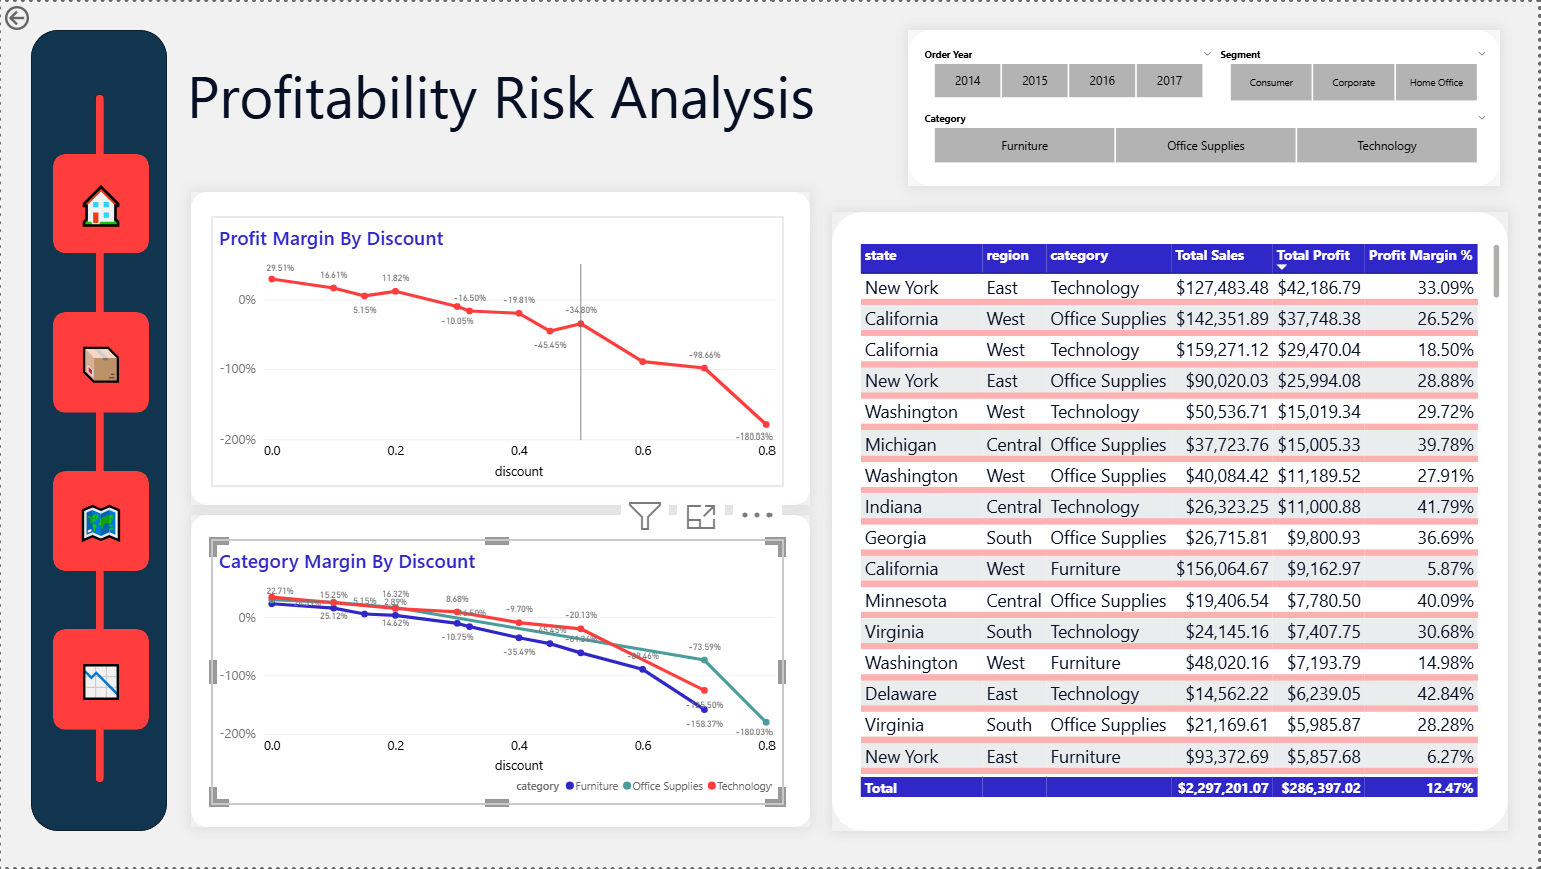

The page's visual inventory and layout, read from the dashboard file:
{"tool":"powerbi","page":{"name":"Profitability risk","canvas":[1920,1080],"ordinal":3},"visuals":[{"type":"shape","box":[1132.5,35,740,195],"z":0},{"type":"textbox","box":[227.5,62.5,857.5,145],"z":1000},{"type":"slicer","fields":{"Values":["superstore_full.Order Year"]},"box":[1139.5,53.3,384.4,73.3],"z":2000},{"type":"slicer","fields":{"Values":["superstore_full.segment"]},"box":[1509.6,52.5,357.5,77.5],"z":3000},{"type":"actionButton","box":[0,0,100,40],"z":4000},{"type":"slicer","fields":{"Values":["superstore_full.category"]},"box":[1139.6,132.5,727.5,75],"z":5000},{"type":"shape","box":[237.5,237.5,772.5,390],"z":6000},{"type":"lineChart","title":"Profit Margin By Discount","fields":{"Category":["superstore_full.discount"],"Y":["superstore_full.Profit Margin %"]},"box":[262.5,267.5,715,337.5],"z":7000},{"type":"shape","box":[237.5,640,772.5,390],"z":8000},{"type":"lineChart","title":"Category Margin By Discount","fields":{"Category":["superstore_full.discount"],"Series":["superstore_full.category"],"Y":["superstore_full.Profit Margin %"]},"box":[262.5,670,715,332.5],"z":9000},{"type":"shape","box":[1037.5,262.5,845,772.5],"z":10000},{"type":"tableEx","title":"Category Margin By Discount","fields":{"Values":["superstore_full.state","superstore_full.region","superstore_full.category","superstore_full.Total Sales","superstore_full.Total Profit","superstore_full.Profit Margin %"]},"box":[1062.5,292.5,820,710],"z":11000},{"type":"shape","box":[38.5,35,170,1000],"z":12000},{"type":"shape","box":[118,114,12,860],"z":13000},{"type":"actionButton","box":[64.5,190,120,124],"z":14000},{"type":"actionButton","box":[64.5,386.3,120,126],"z":15000},{"type":"actionButton","box":[64.5,584.7,120,125],"z":16000},{"type":"actionButton","box":[64.5,782,120,126],"z":17000}]}

Visuals, with their boxes on the page's 1920x1080 design canvas (x1, y1, x2, y2). These are canvas units, not pixel positions in the 1541x869 screenshot, which may show the page scaled, cropped or inside an application window:
shape: BBox(1132, 35, 1872, 230)
textbox: BBox(228, 62, 1085, 208)
slicer - superstore_full.Order Year: BBox(1140, 53, 1524, 127)
slicer - superstore_full.segment: BBox(1510, 52, 1867, 130)
actionButton: BBox(0, 0, 100, 40)
slicer - superstore_full.category: BBox(1140, 132, 1867, 208)
shape: BBox(238, 238, 1010, 628)
"Profit Margin By Discount" lineChart: BBox(262, 268, 978, 605)
shape: BBox(238, 640, 1010, 1030)
"Category Margin By Discount" lineChart: BBox(262, 670, 978, 1002)
shape: BBox(1038, 262, 1882, 1035)
"Category Margin By Discount" tableEx: BBox(1062, 292, 1882, 1002)
shape: BBox(38, 35, 208, 1035)
shape: BBox(118, 114, 130, 974)
actionButton: BBox(64, 190, 184, 314)
actionButton: BBox(64, 386, 184, 512)
actionButton: BBox(64, 585, 184, 710)
actionButton: BBox(64, 782, 184, 908)
